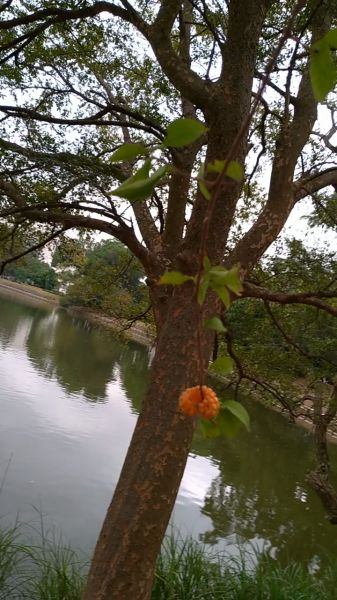eggs: (172, 381, 225, 424)
